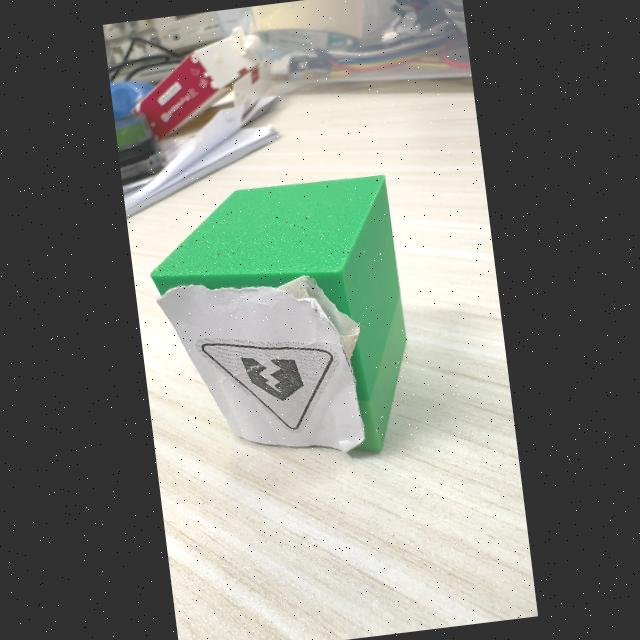Earthquake: (196, 338, 338, 431)
